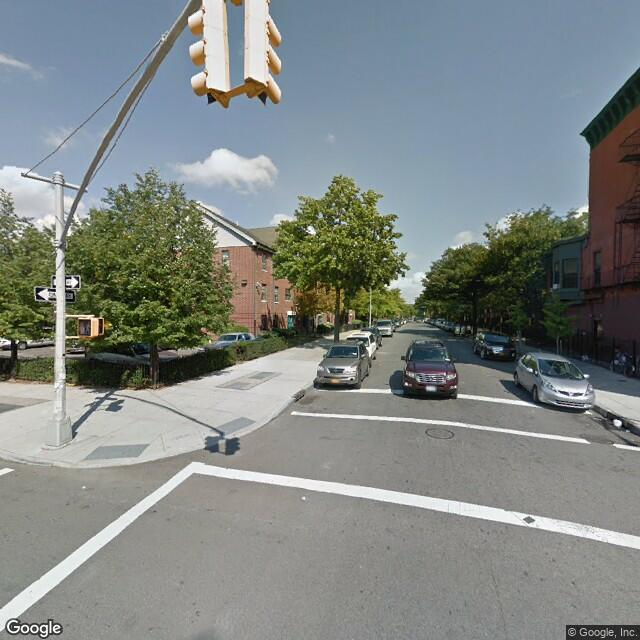litter: (608, 419, 622, 428)
